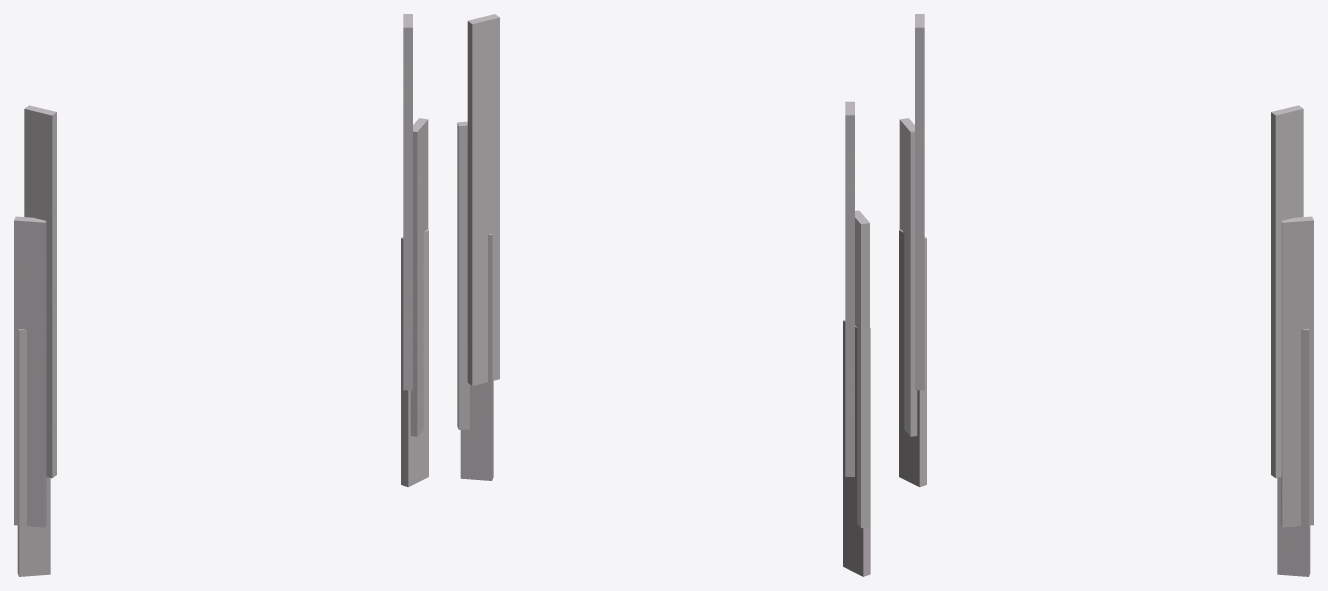
The model's file is acc_wings_small.glb.
The picture shows the model from 3 angles, left to right: view 1: azimuth 30°, elevation 25°; view 2: azimuth 150°, elevation 25°; view 3: azimuth 330°, elevation 25°; orthographic projection.
Parts seen in each view (by area): view 1: acc_wings_small; view 2: acc_wings_small; view 3: acc_wings_small.
Boxes of the visible parts, x1,y1,x2,y2 form: acc_wings_small: (14,14,428,576); acc_wings_small: (457,14,870,576); acc_wings_small: (899,14,1313,576).
Size of the model in its own units: 0.5971 by 0.6363 by 0.0406.
1 material, 1 textured.
